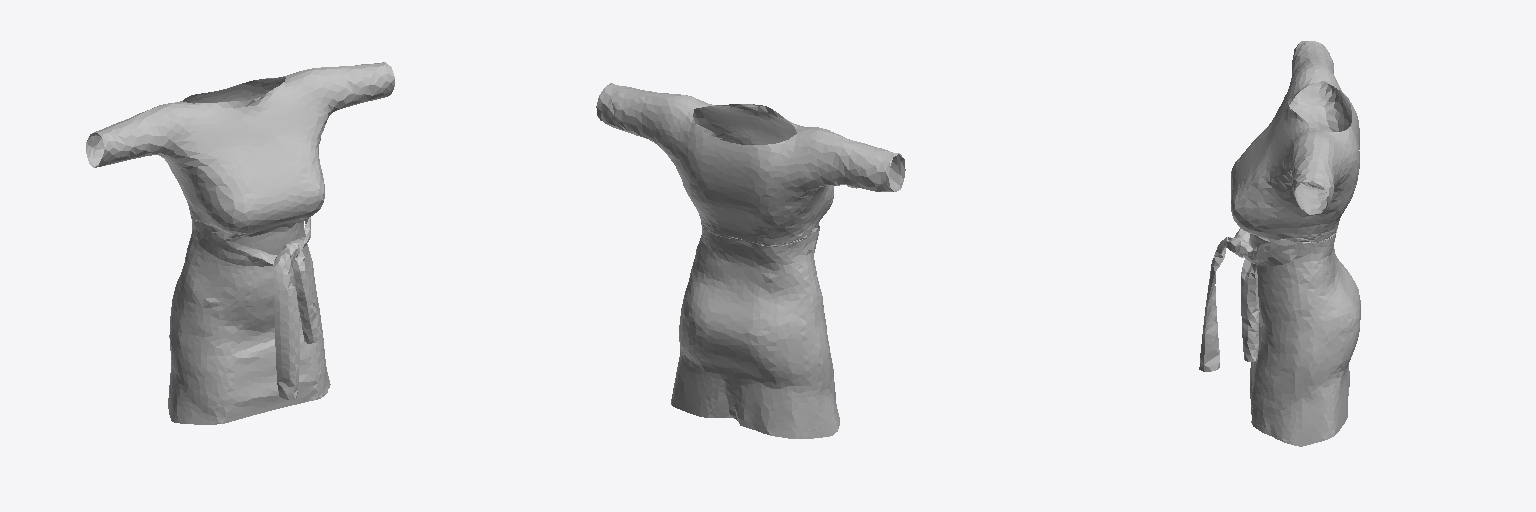
3 views of the same model, side by side, from view 1: azimuth 30°, elevation 25°; view 2: azimuth 150°, elevation 25°; view 3: azimuth 270°, elevation 25° (orthographic).
Visible parts, largest first — view 1: medium_tieDress:polySurface1; view 2: medium_tieDress:polySurface1; view 3: medium_tieDress:polySurface1.
Part boxes in pixels (left/top/right/bottom): medium_tieDress:polySurface1: left=86, top=62, right=394, bottom=424; medium_tieDress:polySurface1: left=596, top=83, right=905, bottom=438; medium_tieDress:polySurface1: left=1199, top=41, right=1360, bottom=446.
Size of the model in its own units: 7.67 by 7.7 by 3.64.
10 materials, 1 textured.